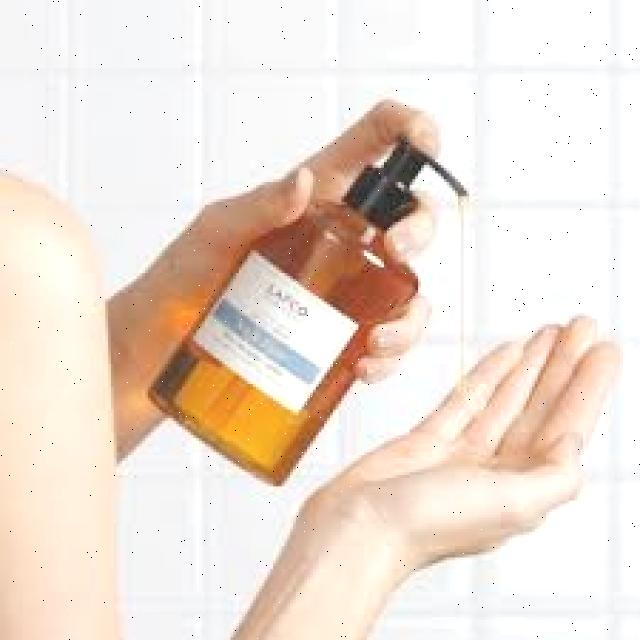liquid soap: (158, 128, 486, 492)
